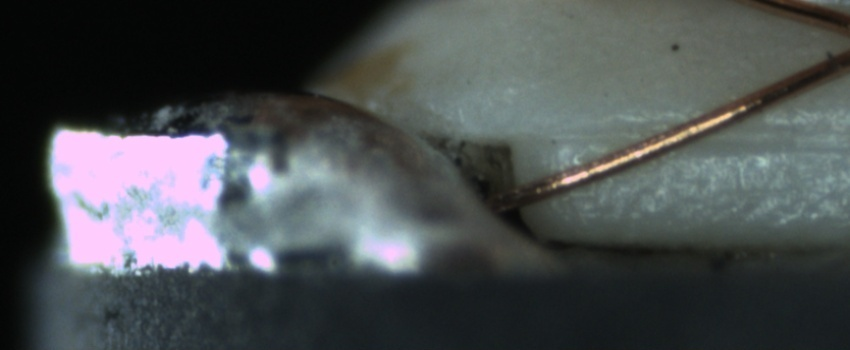DL: (550, 105, 850, 169)
